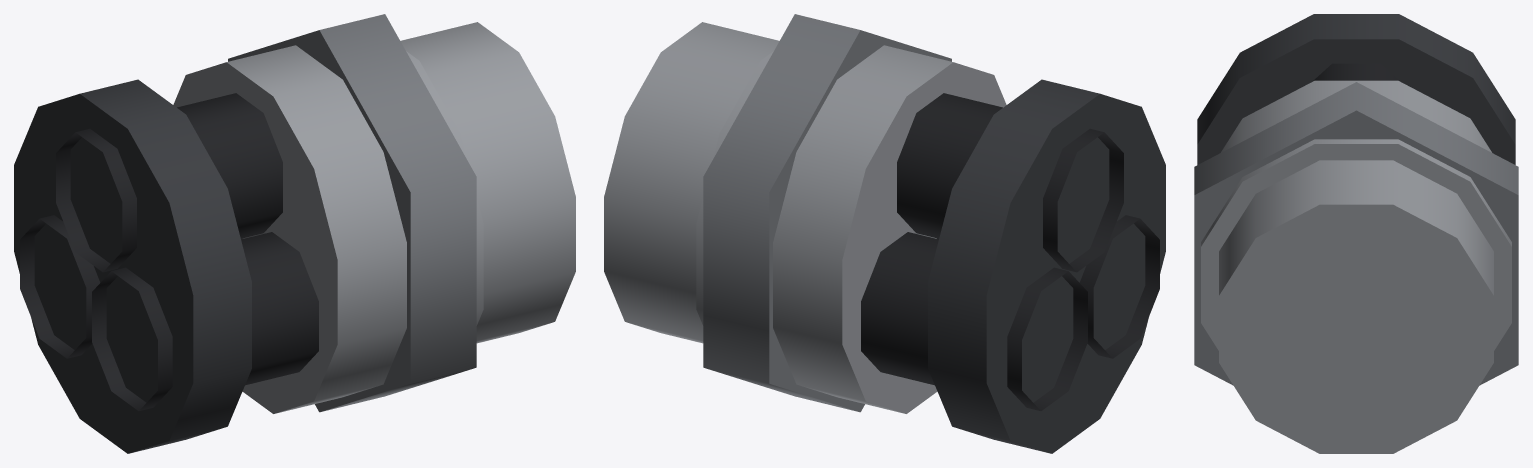
Rendered from arm_plug_east.obj.
The picture shows the model from 3 angles, left to right: view 1: azimuth 30°, elevation 25°; view 2: azimuth 150°, elevation 25°; view 3: azimuth 270°, elevation 25°; orthographic projection. The views are drawn at different scales.
Parts seen in each view (by area): view 1: arm_plug_east; view 2: arm_plug_east; view 3: arm_plug_east.
Part boxes in pixels (<box>): arm_plug_east: <box>14,14,575,453</box>; arm_plug_east: <box>604,14,1165,453</box>; arm_plug_east: <box>1194,14,1518,453</box>.
Size of the model in its own units: 0.35 by 0.3125 by 0.2706.
